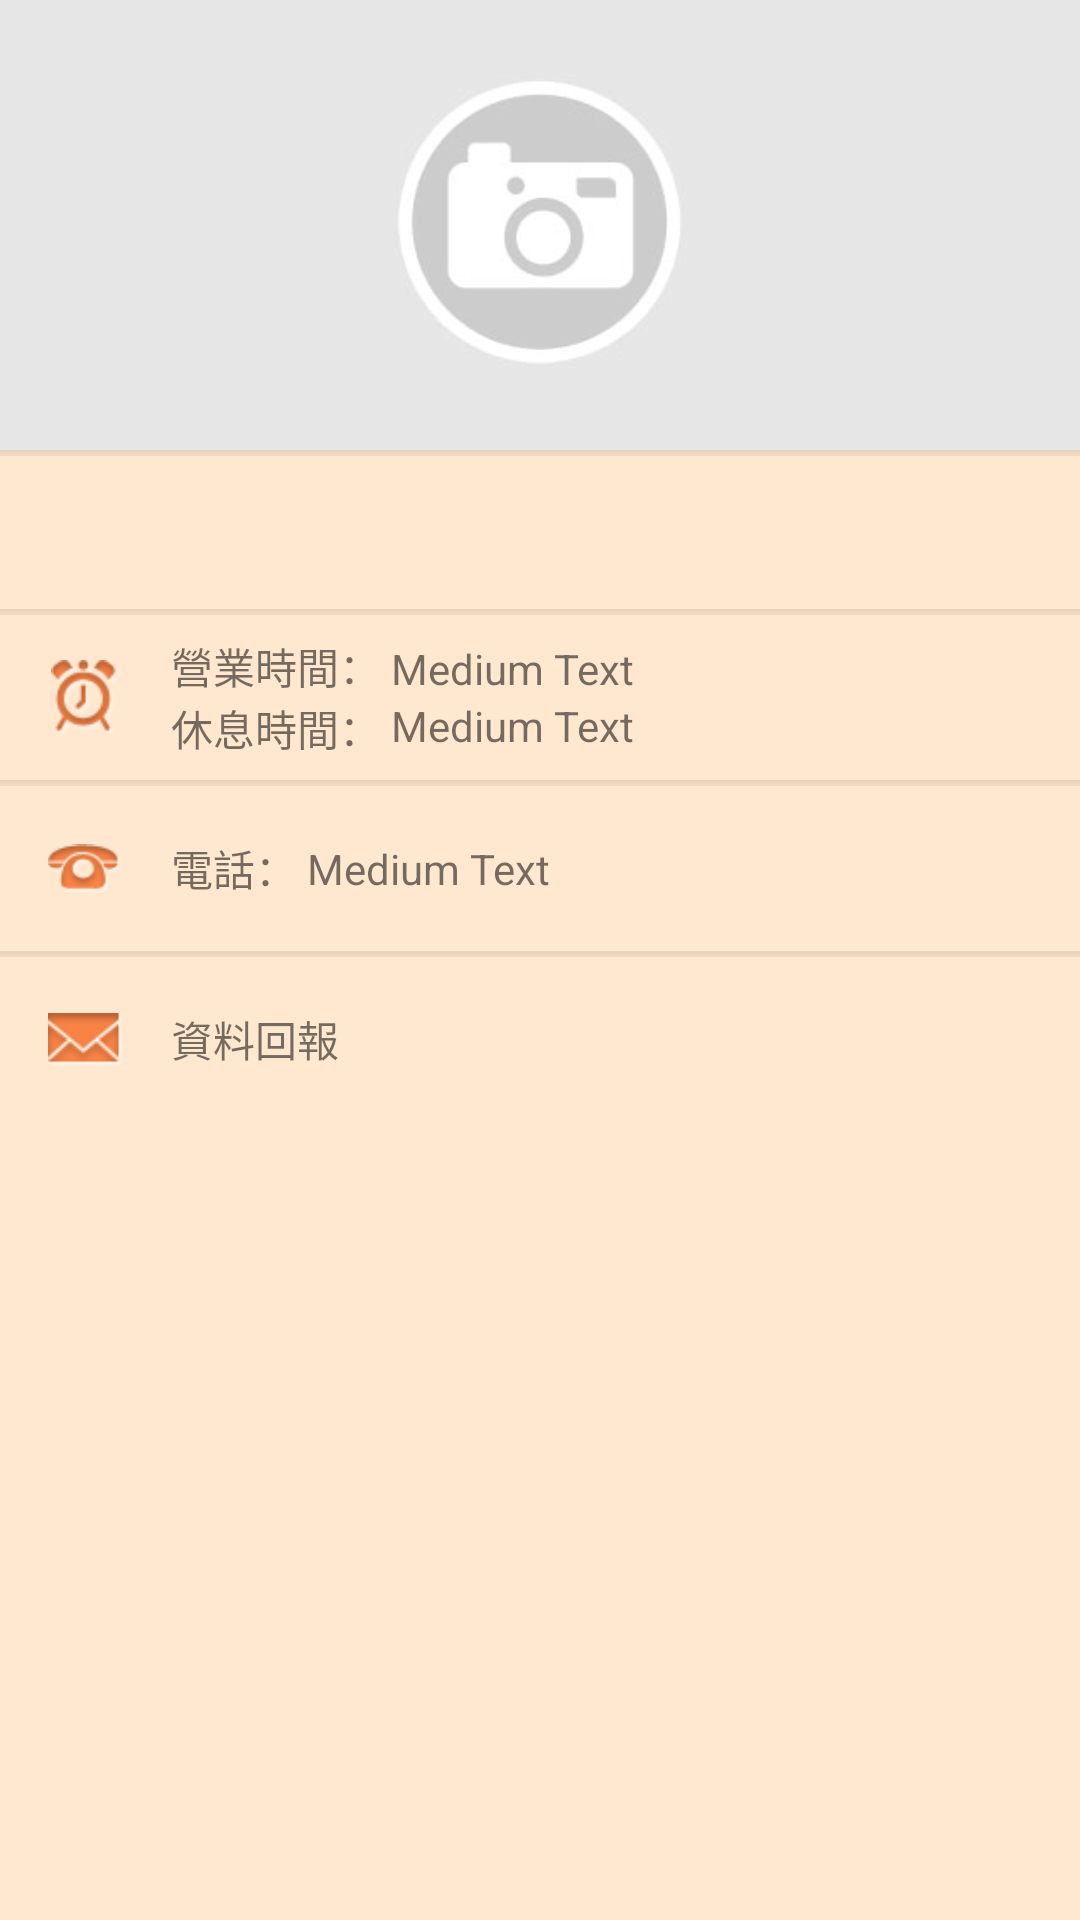

Icon bounding boxes for this 1080*1920 phone screenshot, format (x1, y1, x2, y2):
detail opentime: (51, 660, 116, 731)
detail report: (48, 1013, 119, 1062)
detail tel: (48, 844, 118, 889)
